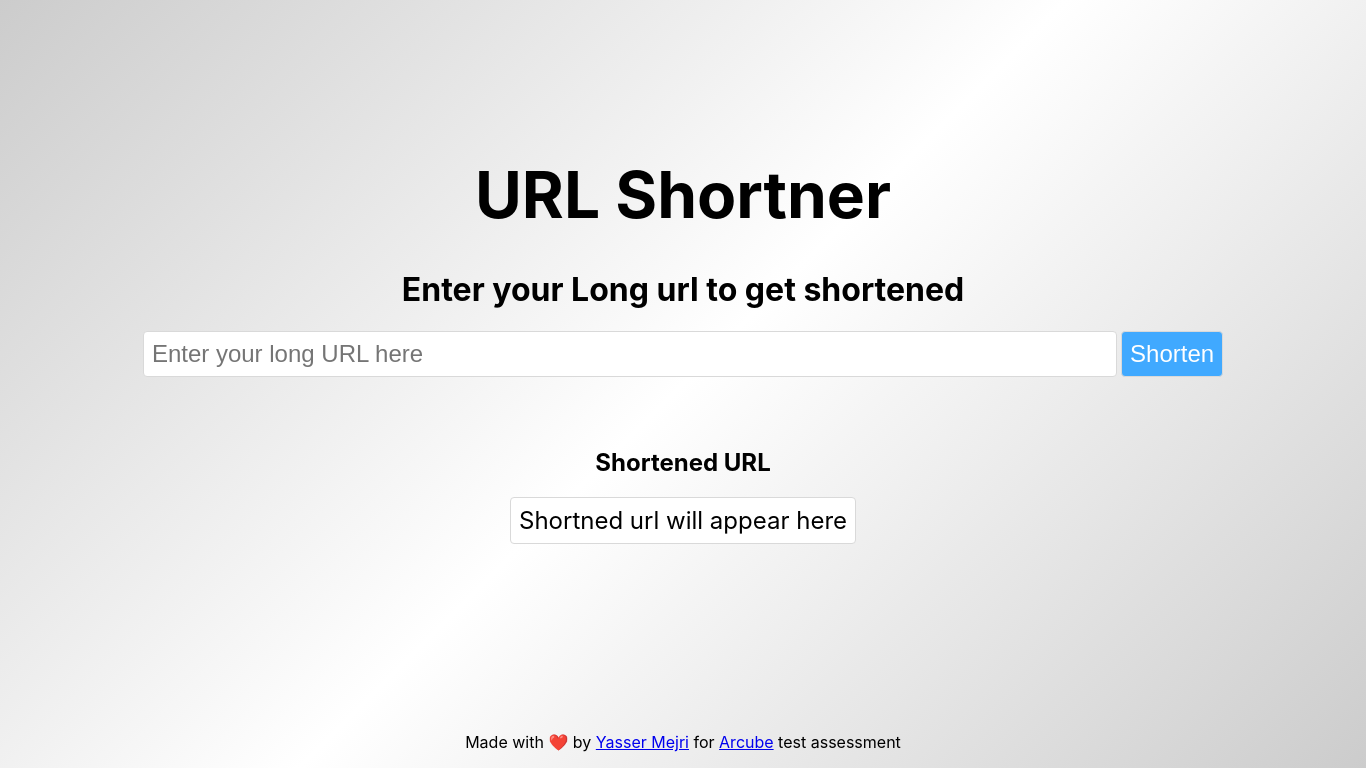
shows error message on failure
Type "http://example.com" into the field with test id "url-input" at {"x": 630, "y": 354}, box [143,330,1117,376]
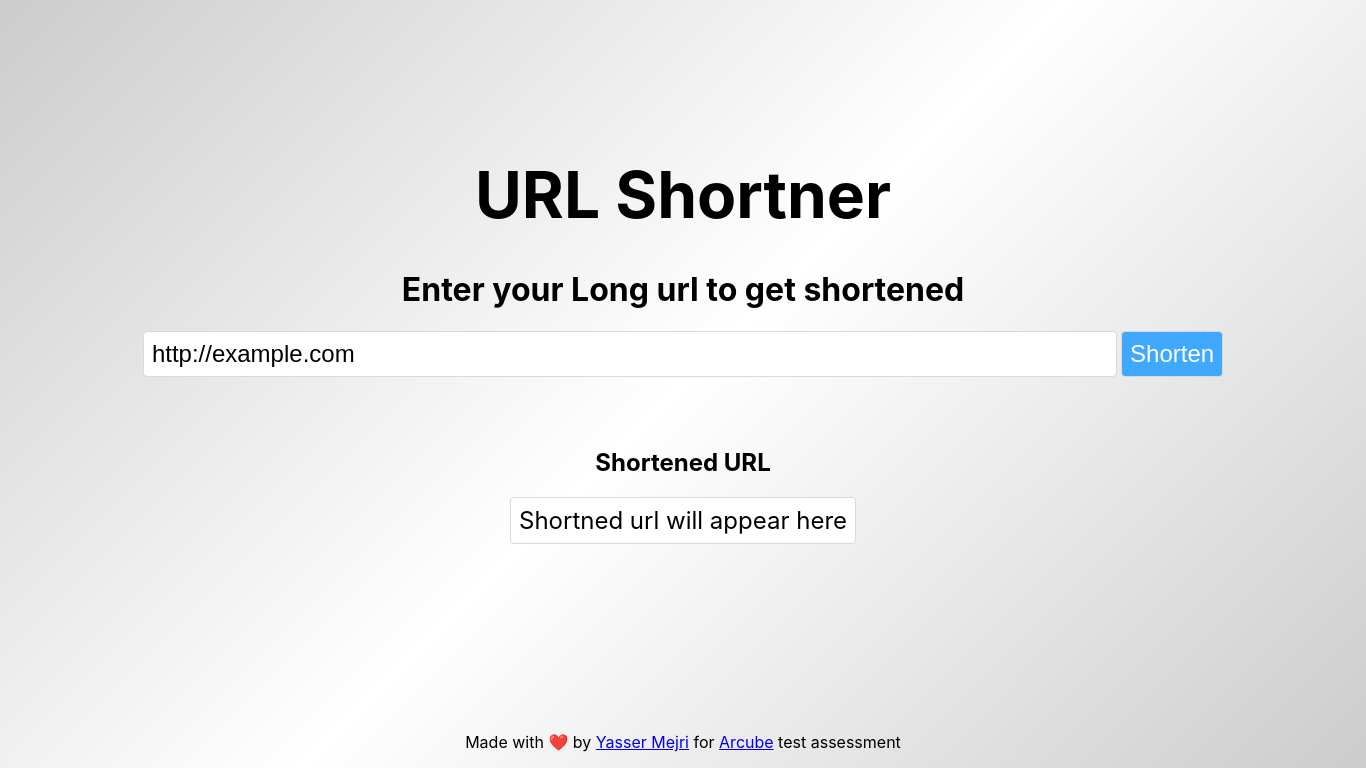
Click the button with test id "shorten-button" at {"x": 1172, "y": 354}, box [1121,330,1223,376]
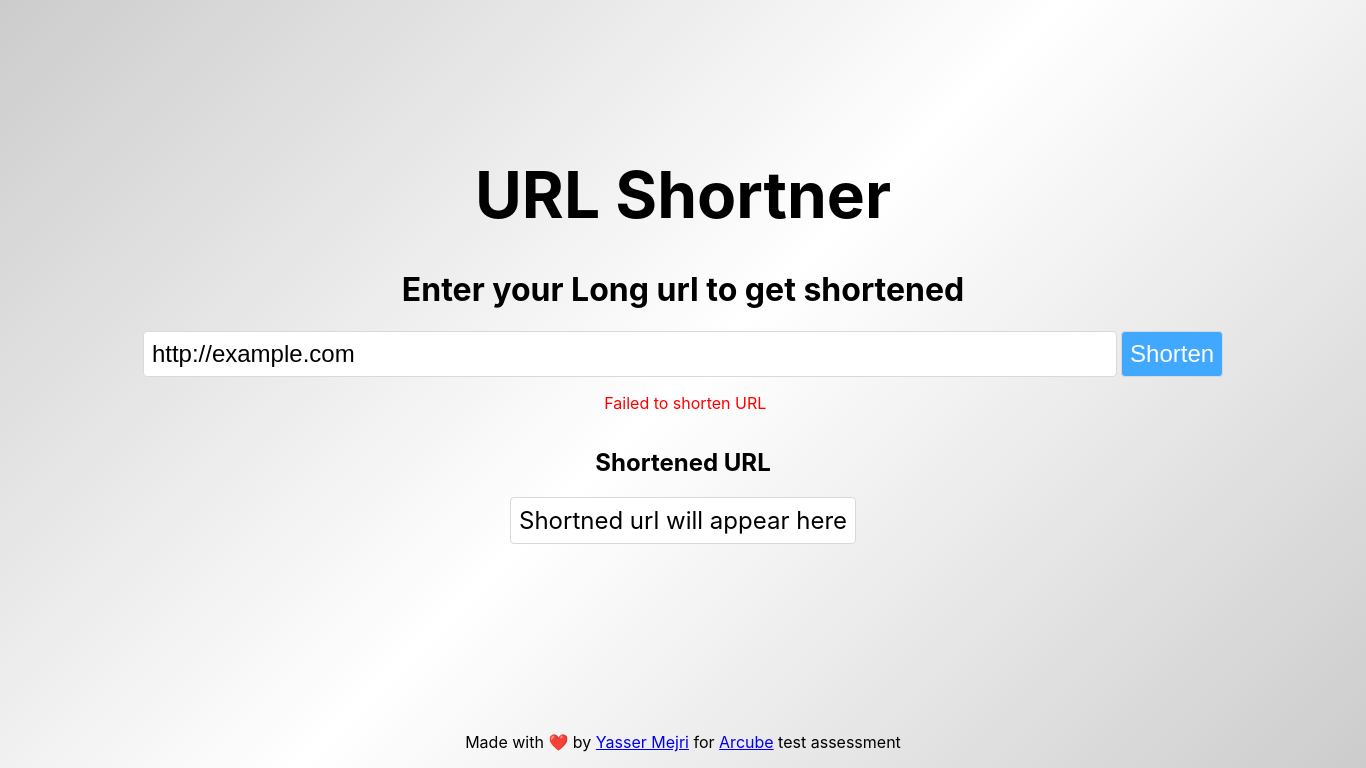
Check: the text "Failed to shorten URL" is shown, box [604,392,766,412]
